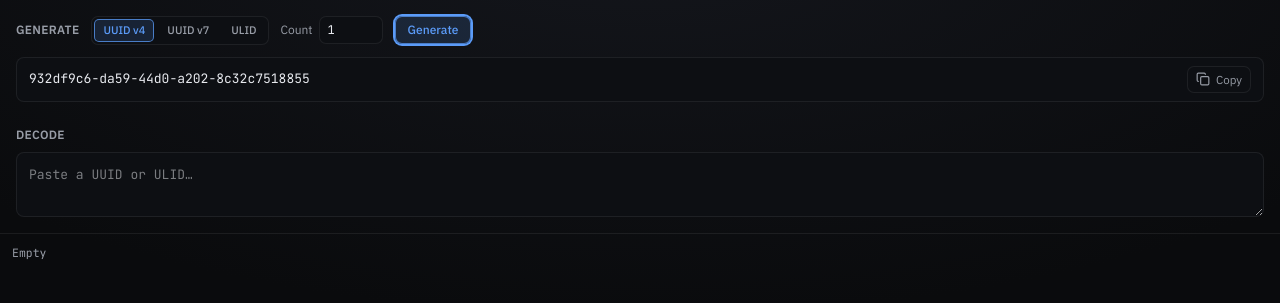
Scenario: UuidUlidTool › decoding a malformed id shows an explicit field-scoped error (no crash)
Type "not-an-id" into the text box with id "uuid-ulid-decode" at (640, 184), box x1=16 y1=152 x2=1264 y2=217
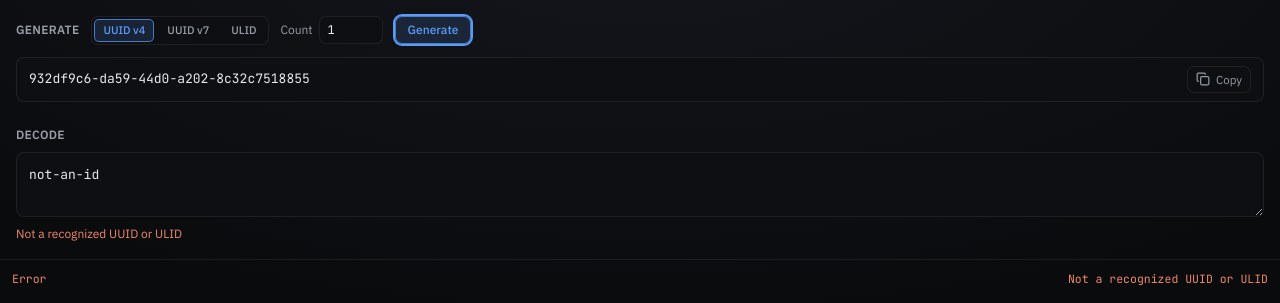
Check: the text with id "uuid-ulid-decode-error" is shown, box x1=16 y1=226 x2=182 y2=241
